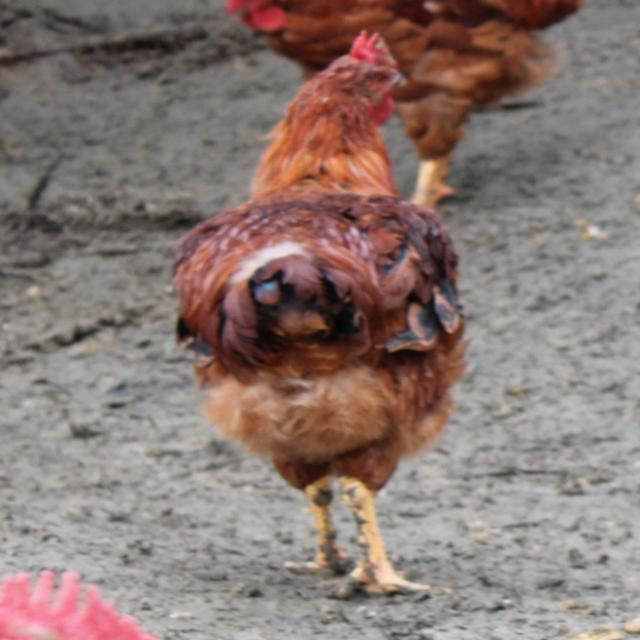cook: (175, 31, 464, 596)
